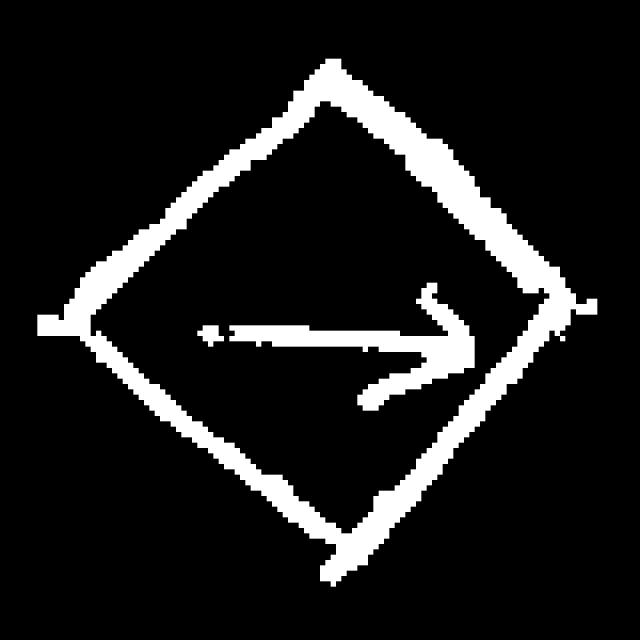dependant_current: (60, 52, 575, 581)
